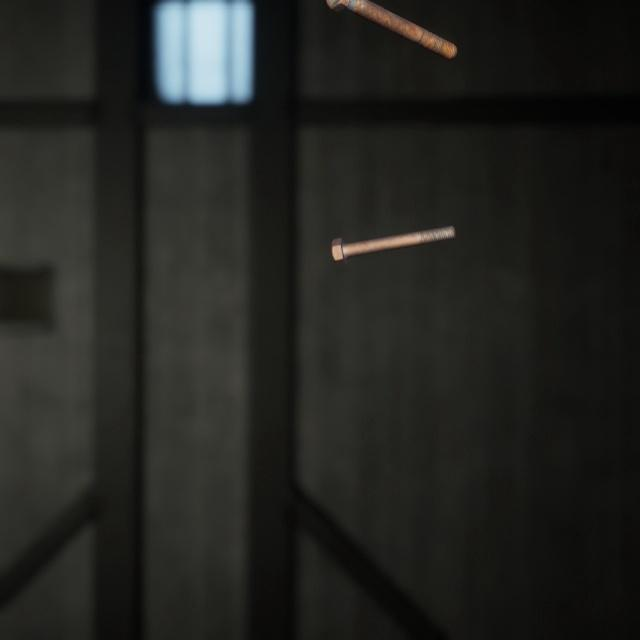bolt: (325, 0, 461, 56), (326, 206, 460, 255)
